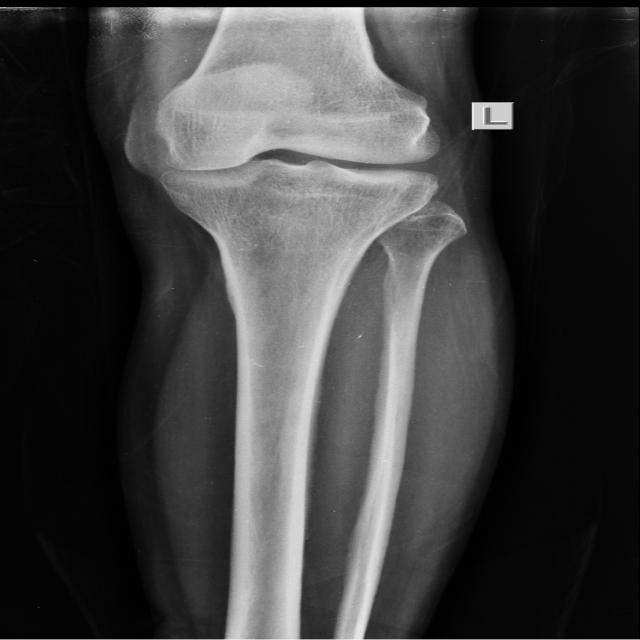normal: (139, 100, 452, 209)
